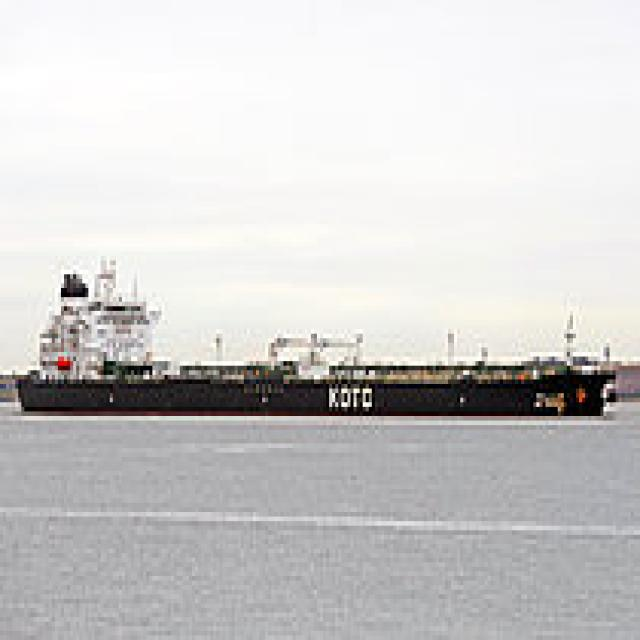Tanker: (9, 247, 619, 425)
